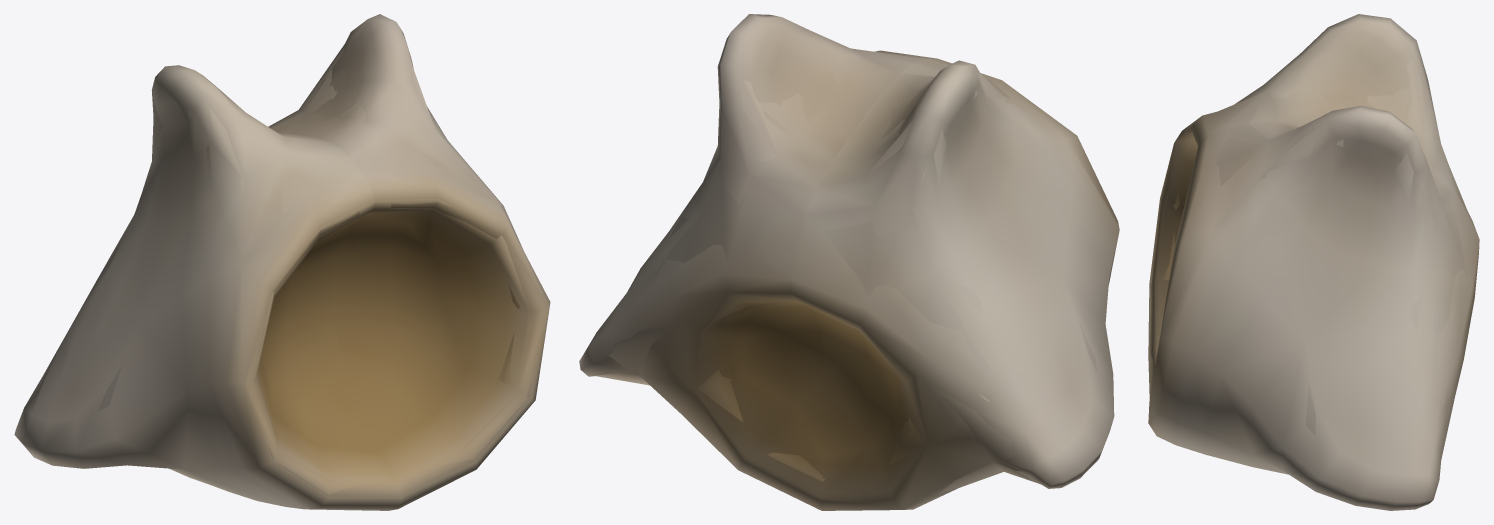
File: vertebrae caudales 05.fbx
3 renders of one model, left to right at view 1: azimuth 30°, elevation 25°; view 2: azimuth 150°, elevation 25°; view 3: azimuth 270°, elevation 25°, orthographic. The views are drawn at different scales.
Parts seen in each view (by area): view 1: vertebrae caudales 05, vertebrae caudales 05 low; view 2: vertebrae caudales 05, vertebrae caudales 05 low; view 3: vertebrae caudales 05, vertebrae caudales 05 low.
Boxes of the visible parts, <box> form: vertebrae caudales 05: <box>14,14,550,510</box>; vertebrae caudales 05 low: <box>97,41,531,496</box>; vertebrae caudales 05: <box>579,14,1119,510</box>; vertebrae caudales 05 low: <box>596,44,1097,495</box>; vertebrae caudales 05: <box>1148,14,1479,510</box>; vertebrae caudales 05 low: <box>1149,57,1467,458</box>.
Bounding box in the file's own units: 1.75 × 1.51 × 1.09.
Materials: 1 (1 with a texture image).
